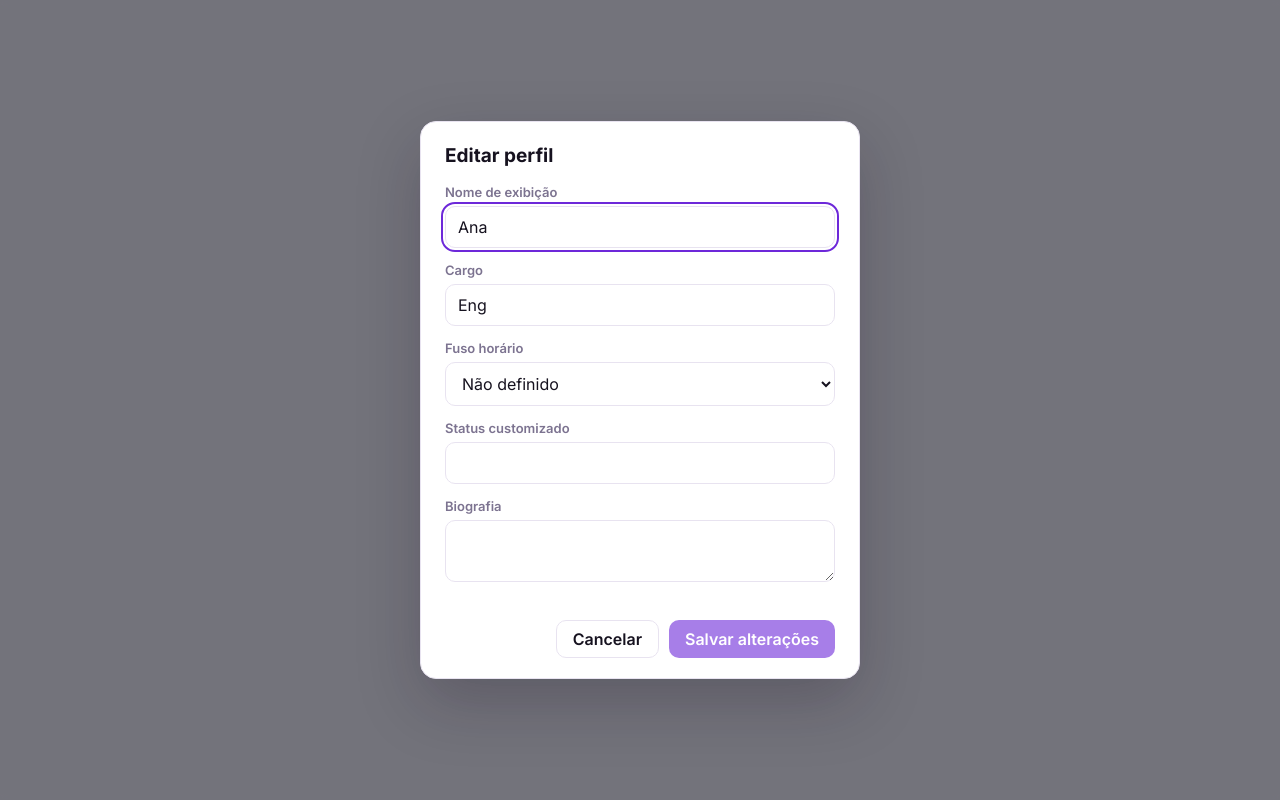
it: ProfileEditDialog › blocks save and shows inline error on an invalid name
Clear the field labelled "Nome de exibição" at x=640, y=227, box top-left (445, 206), bottom-right (835, 248)
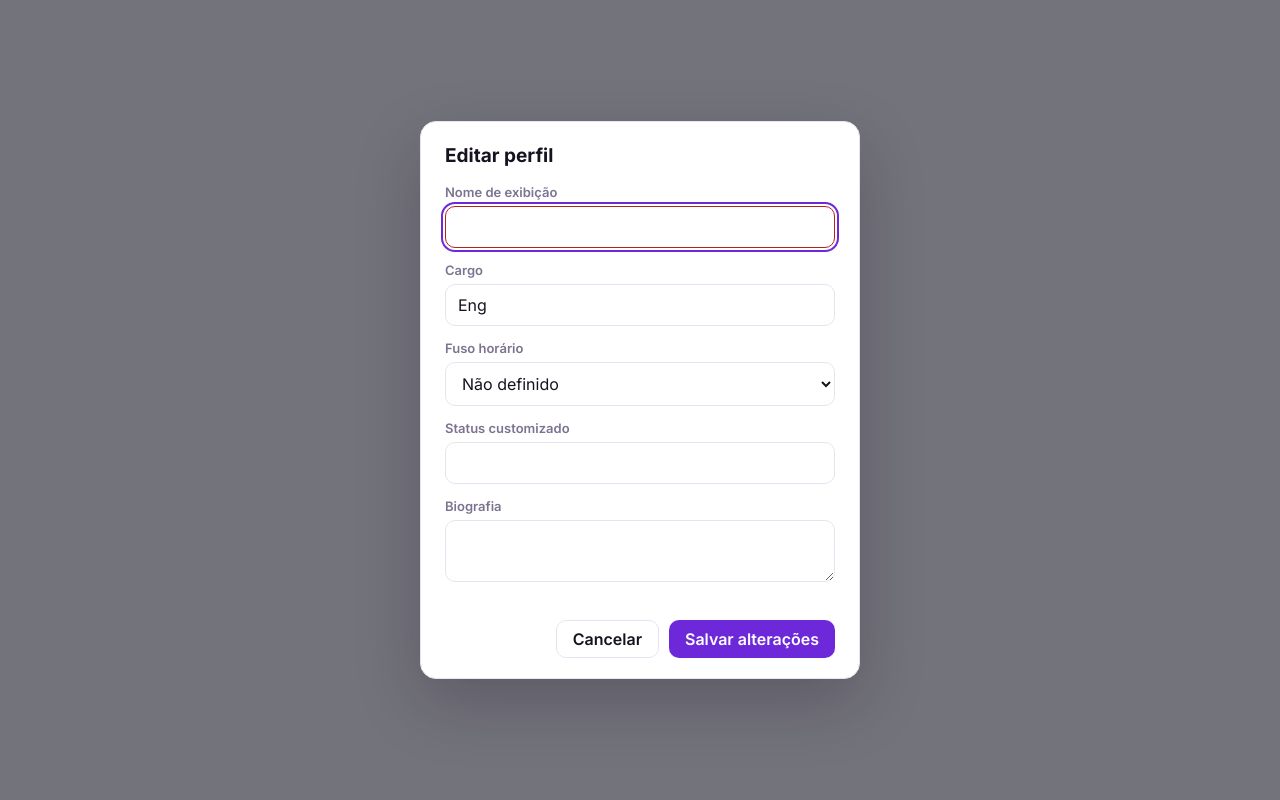
Click the button "Salvar alterações" at x=752, y=639, box top-left (669, 620), bottom-right (835, 658)
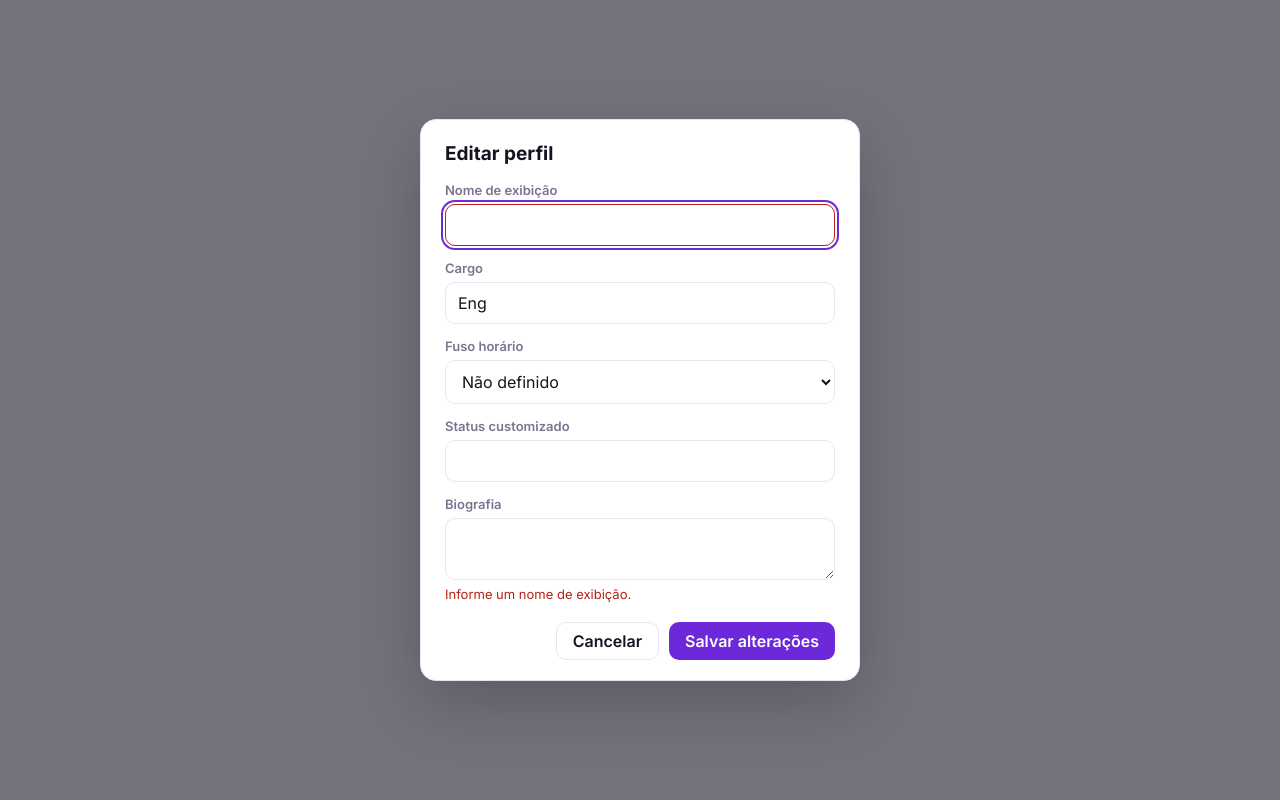
Now the message shows "Informe um nome", box top-left (445, 586), bottom-right (631, 602)
